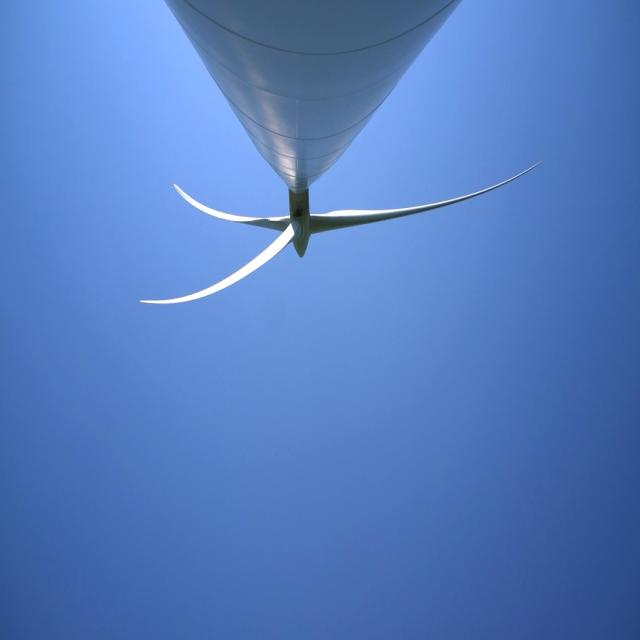blade 1: (330, 174, 522, 251)
blade 2: (148, 178, 259, 234)
blade 3: (144, 249, 270, 338)
